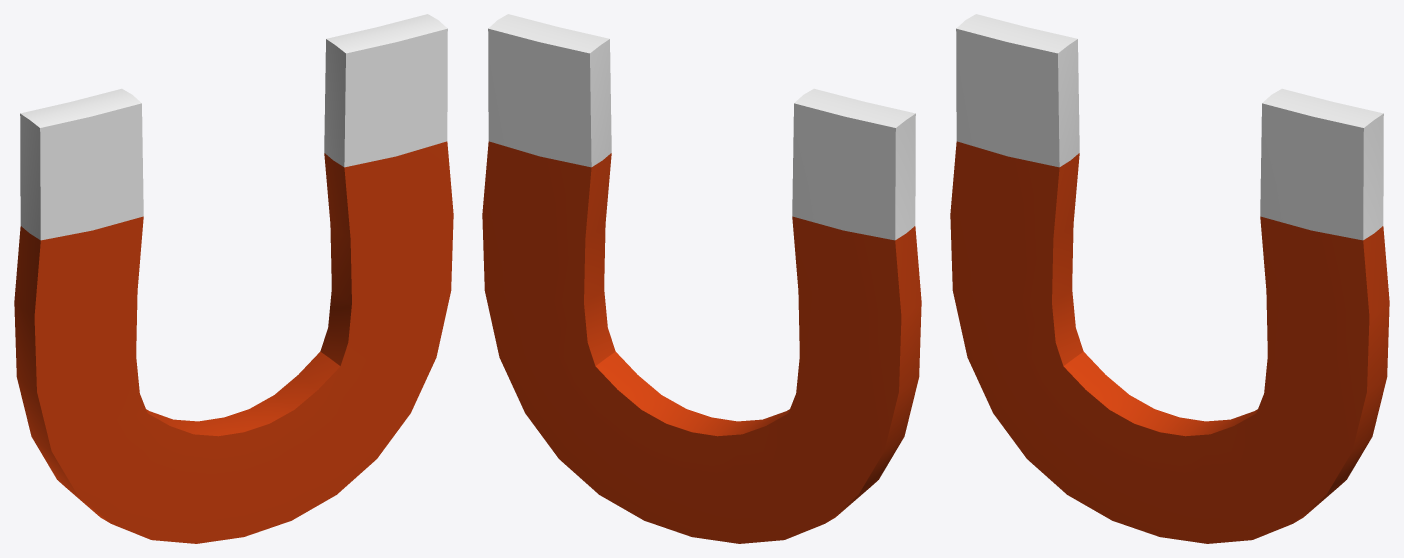
The model's file is Magnet1.fbx.
The picture shows the model from 3 angles, left to right: view 1: azimuth 30°, elevation 25°; view 2: azimuth 150°, elevation 25°; view 3: azimuth 330°, elevation 25°; orthographic projection.
Visible parts, largest first — view 1: magnet; view 2: magnet; view 3: magnet.
Part boxes in pixels (x1,y1,x2,y2): magnet: (14, 14, 453, 543); magnet: (482, 14, 921, 543); magnet: (950, 14, 1389, 543).
Bounding box in the file's own units: 303 × 316 × 25.67.
